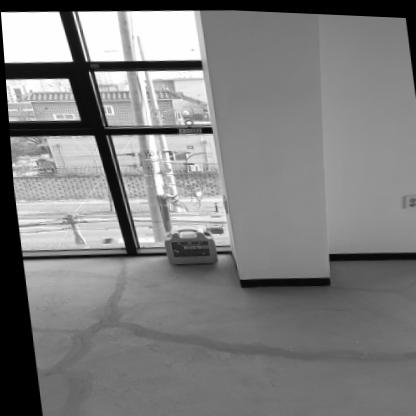DDL: (158, 223, 212, 264)
